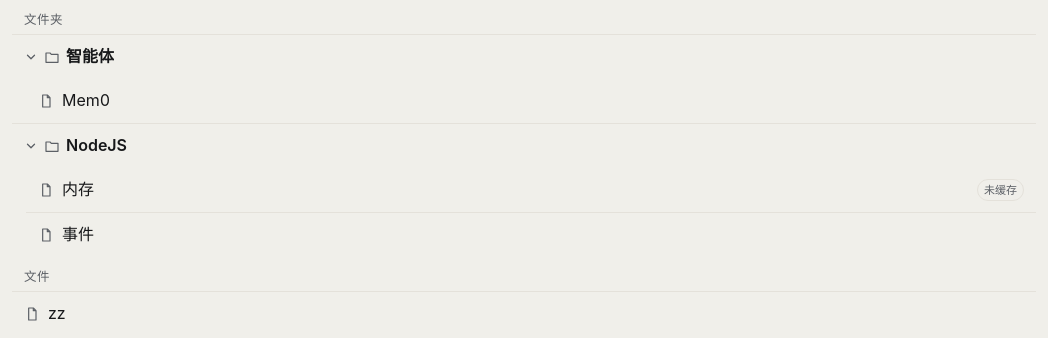
Test: FileTree › 目录可折叠：点击隐藏/恢复其子项
Click the button with class "tree-dir-toggle" showing "NodeJS" at coordinates (97, 145), box x1=12 y1=124 x2=1036 y2=168
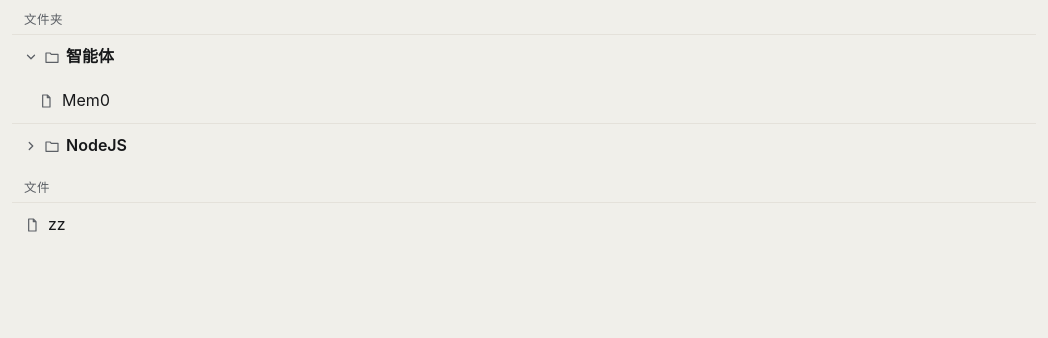
Expected: the link with class "tree-item" showing "Mem0" is shown, x1=38 y1=90 x2=110 y2=110
Result: the button with class "tree-dir-toggle" is collapsed
Click the button with class "tree-dir-toggle" showing "NodeJS" at coordinates (97, 145), box x1=12 y1=124 x2=1036 y2=168
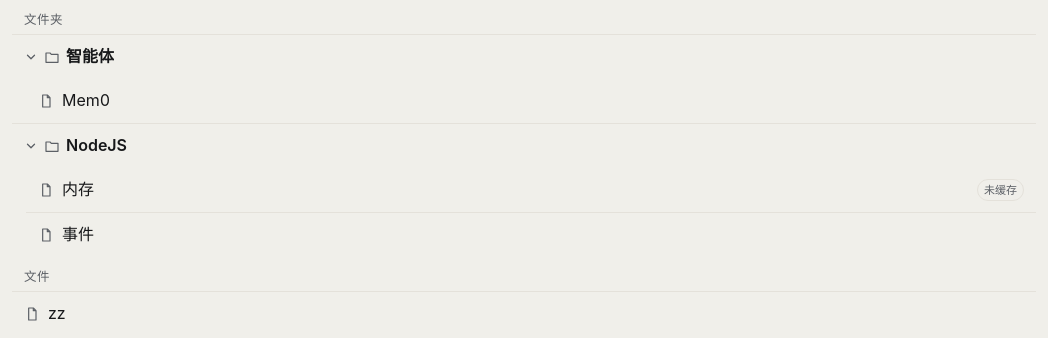
Result: the button with class "tree-dir-toggle" is expanded at x1=12 y1=124 x2=1036 y2=168
Result: the link with class "tree-item" showing "内存 未缓存" is shown at x1=38 y1=179 x2=1024 y2=201
